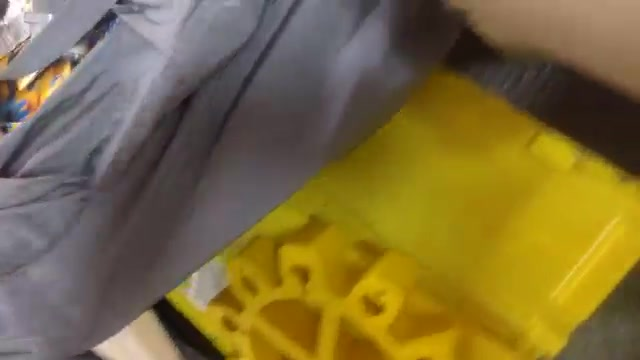gear: (174, 226, 472, 360)
